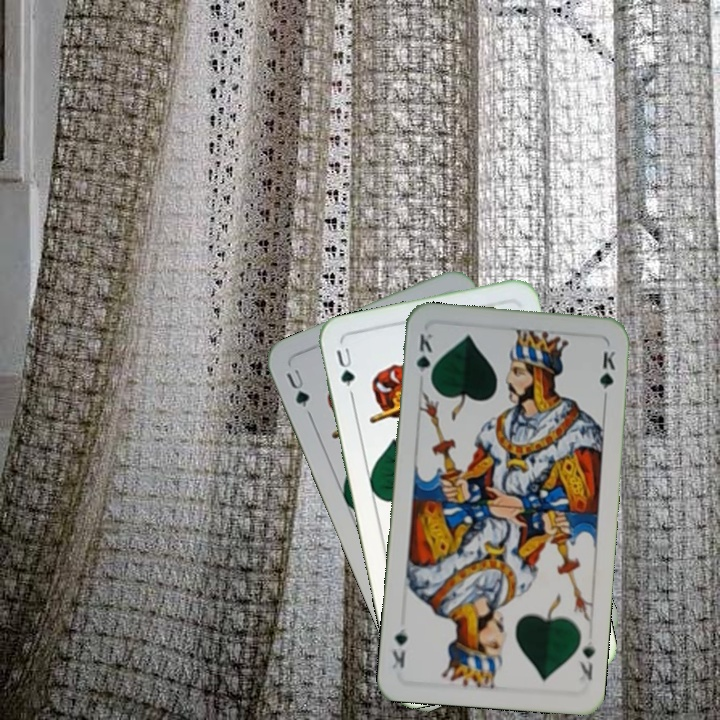GK: (413, 329, 437, 386), (575, 637, 598, 683)
GU: (282, 364, 312, 410), (332, 343, 358, 389)
